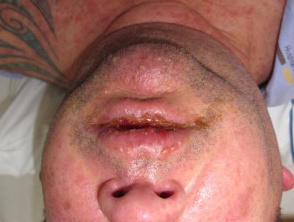SJS-TEN: (88, 99, 222, 176)
